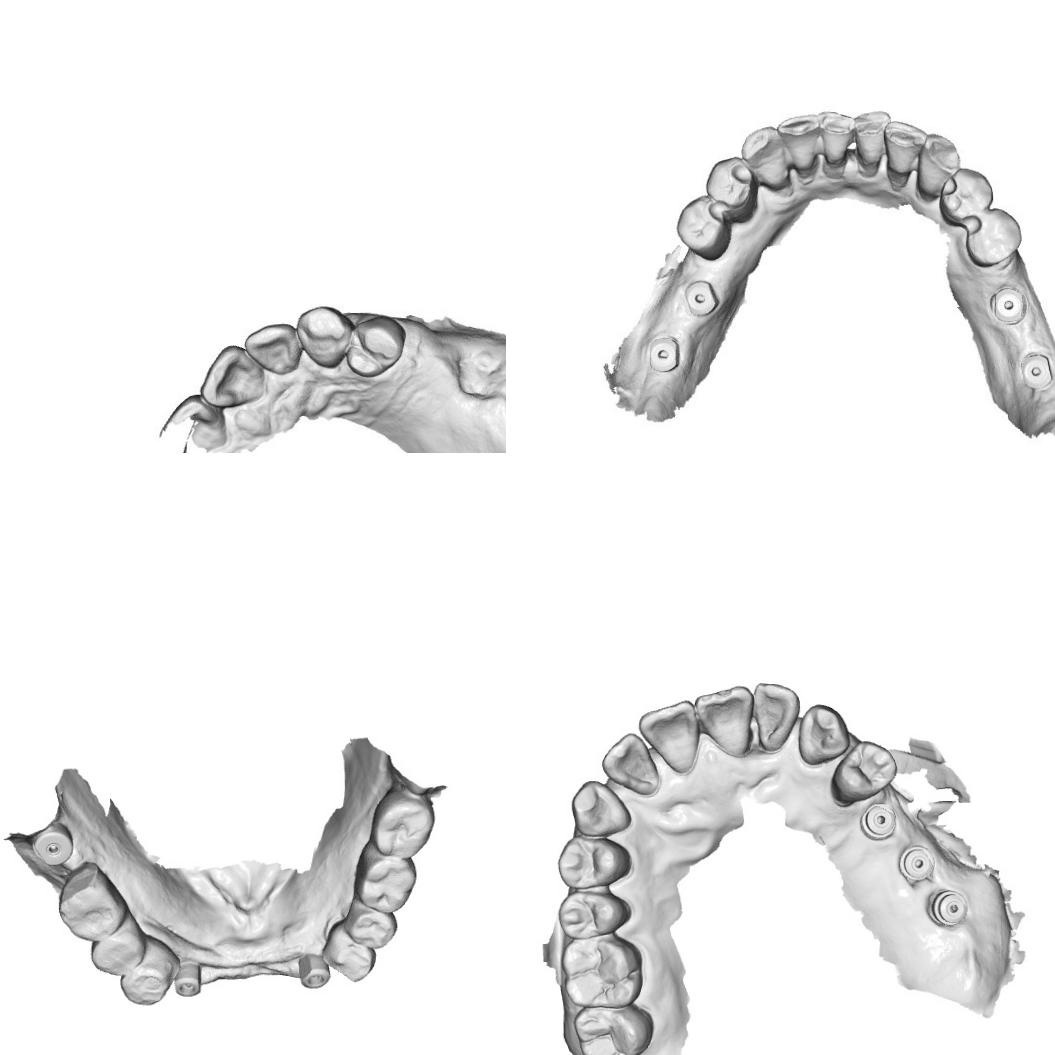canine: (242, 318, 308, 384), (569, 779, 633, 838), (741, 126, 794, 194), (796, 702, 850, 766), (916, 130, 964, 197)
implant: (28, 819, 82, 877), (989, 286, 1029, 334), (928, 888, 969, 928), (858, 802, 898, 843), (295, 948, 334, 990), (1019, 344, 1055, 389), (897, 842, 936, 882), (646, 333, 684, 374), (682, 278, 718, 320), (171, 962, 204, 1002)
incisor: (637, 699, 701, 776), (198, 344, 268, 414), (692, 685, 756, 759), (599, 732, 661, 798), (777, 112, 830, 186), (751, 681, 802, 754), (847, 110, 893, 185), (818, 110, 864, 179), (883, 122, 920, 191)
molar: (560, 934, 644, 1010), (368, 782, 436, 859), (58, 870, 128, 944), (572, 1003, 655, 1055), (358, 845, 419, 908)
premolar: (829, 740, 898, 808), (556, 833, 632, 889), (291, 303, 351, 371), (556, 888, 632, 939), (344, 318, 404, 379), (86, 916, 146, 975), (676, 196, 730, 258), (705, 150, 757, 212), (120, 945, 173, 1004), (325, 923, 377, 982), (943, 170, 991, 224), (970, 212, 1018, 262), (346, 901, 397, 948)
